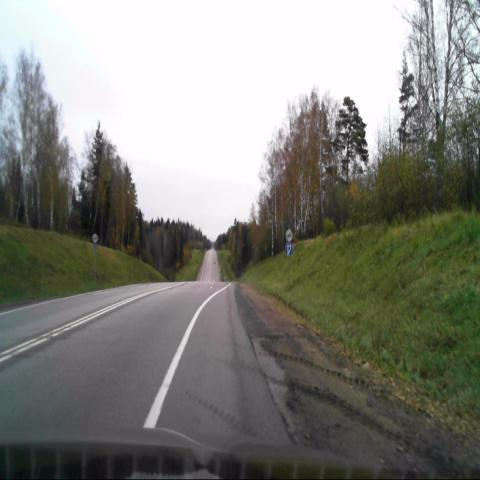3_21: (286, 229, 292, 241)
5_15_3: (286, 243, 292, 254)
